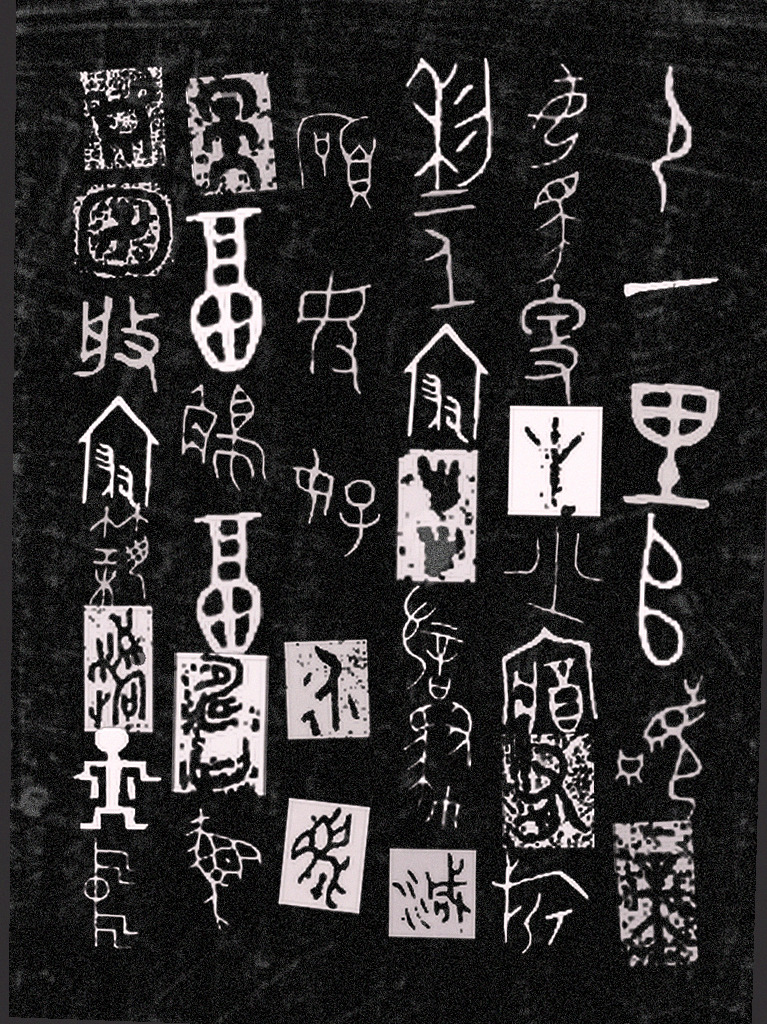char: (168, 648, 273, 801), (179, 203, 270, 379), (610, 668, 710, 824), (606, 814, 704, 973), (619, 376, 725, 513), (180, 68, 282, 201), (401, 54, 497, 194), (496, 726, 600, 855), (391, 445, 483, 588), (397, 319, 495, 448), (494, 621, 600, 739), (189, 506, 268, 662), (275, 794, 373, 918), (66, 178, 180, 283), (504, 402, 605, 519), (291, 266, 377, 400), (500, 522, 608, 627), (488, 848, 592, 957), (73, 392, 165, 514), (177, 379, 272, 495), (181, 804, 265, 935), (288, 445, 383, 560), (68, 723, 165, 834), (79, 600, 157, 737), (279, 634, 375, 745), (76, 62, 170, 175), (398, 697, 475, 833), (69, 291, 164, 397), (631, 508, 692, 672), (406, 184, 480, 315), (514, 279, 589, 408), (385, 843, 480, 943), (397, 581, 470, 704), (291, 109, 378, 212), (86, 500, 155, 617), (647, 62, 699, 217), (523, 58, 591, 170), (79, 834, 143, 952), (529, 169, 585, 290), (620, 273, 721, 301)
